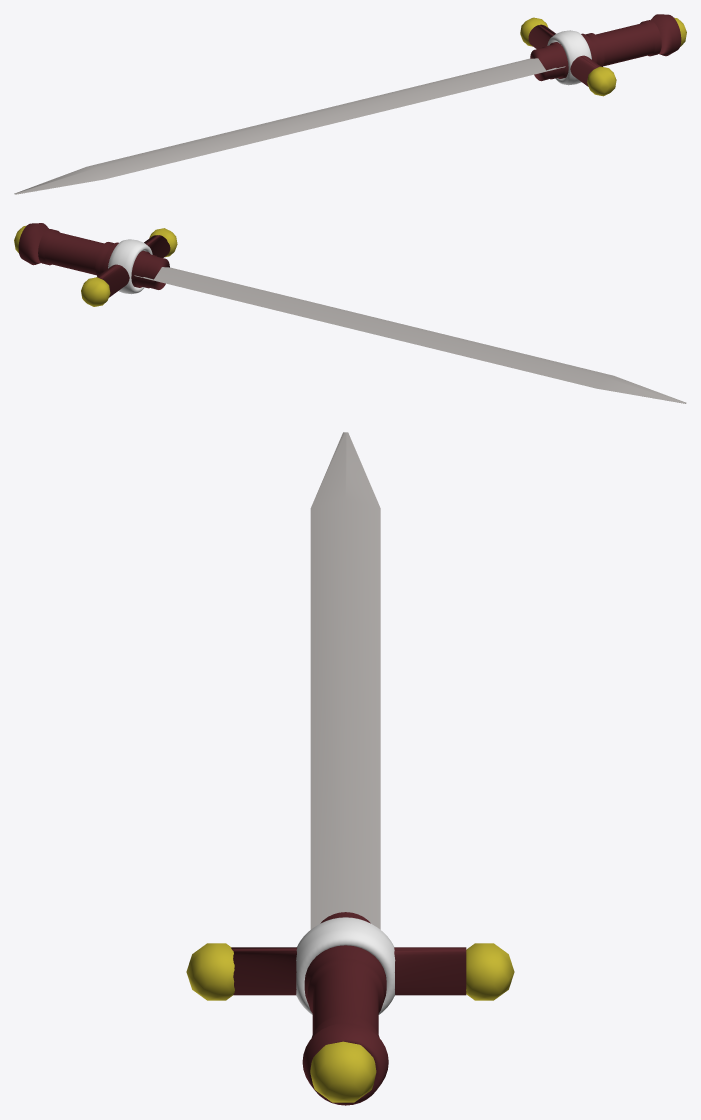
The model's file is Sword.glb.
The picture shows the model from 3 angles, top to bottom: view 1: azimuth 30°, elevation 25°; view 2: azimuth 150°, elevation 25°; view 3: azimuth 270°, elevation 25°; orthographic projection. The views are drawn at different scales.
Parts seen in each view (by area): view 1: Cube; view 2: Cube; view 3: Cube.
Part boxes in pixels (<box>): Cube: <box>14,14,686,194</box>; Cube: <box>14,223,686,403</box>; Cube: <box>186,432,514,1105</box>.
Size of the model in its own units: 11.88 by 0.8398 by 2.52.
